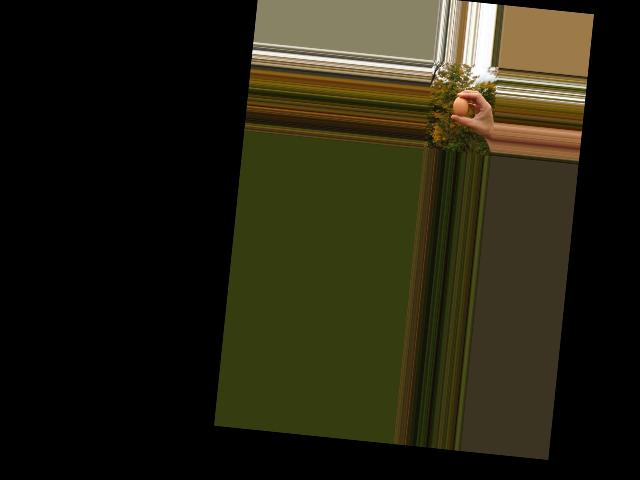egg: (452, 95, 469, 117)
